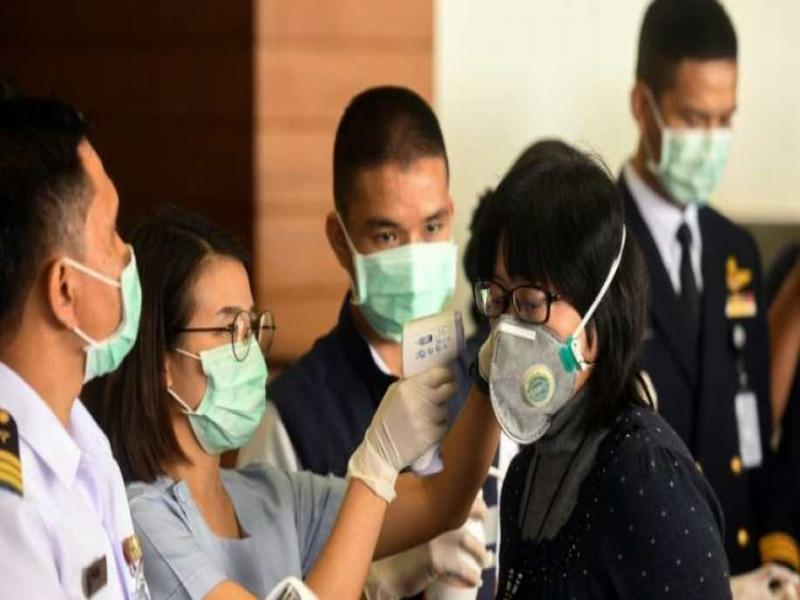good: (476, 272, 580, 447), (351, 198, 460, 345), (181, 300, 271, 461), (78, 197, 142, 384), (654, 96, 732, 205)
